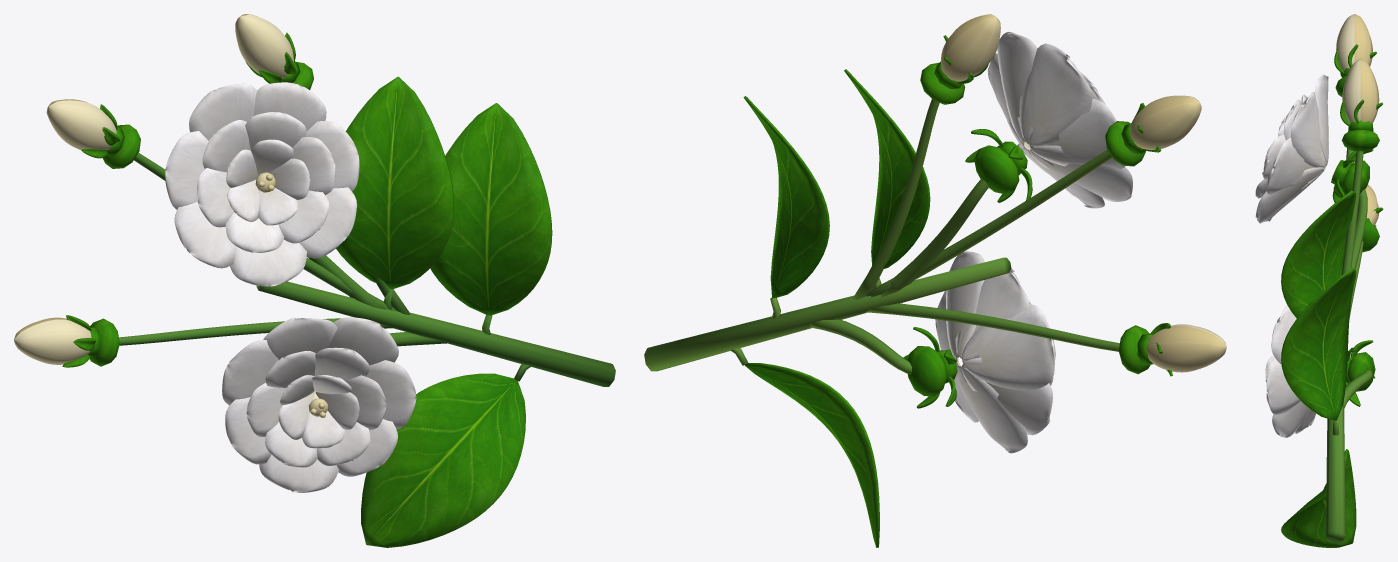
The model's file is NP_Jasmine_Harvest.fbx.
3 views of the same model, side by side, from view 1: azimuth 30°, elevation 25°; view 2: azimuth 150°, elevation 25°; view 3: azimuth 270°, elevation 25° (orthographic). The views are drawn at different scales.
Visible parts, largest first — view 1: NP_Jasmine_Harvest; view 2: NP_Jasmine_Harvest; view 3: NP_Jasmine_Harvest.
Part boxes in pixels (box(x1,y1,x2,y2)): NP_Jasmine_Harvest: box(14, 14, 615, 547); NP_Jasmine_Harvest: box(644, 14, 1226, 547); NP_Jasmine_Harvest: box(1255, 14, 1383, 547).
Size of the model in its own units: 42.62 by 38.69 by 10.26.
